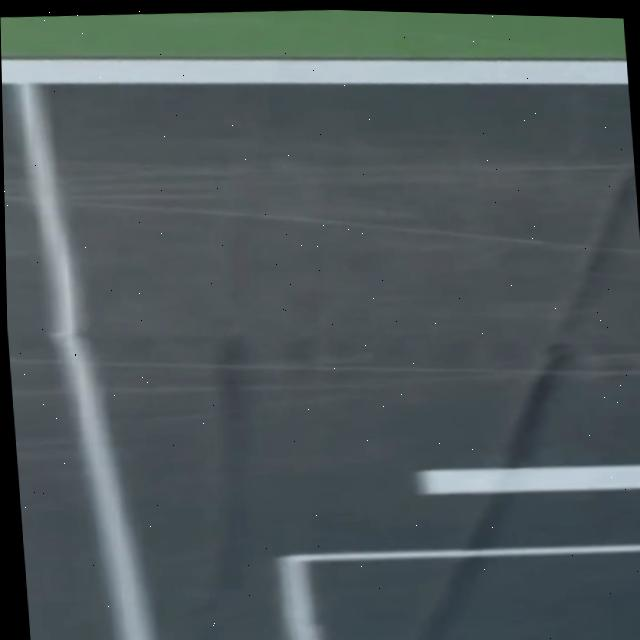center: (416, 464, 640, 493)
right: (1, 59, 629, 84)
